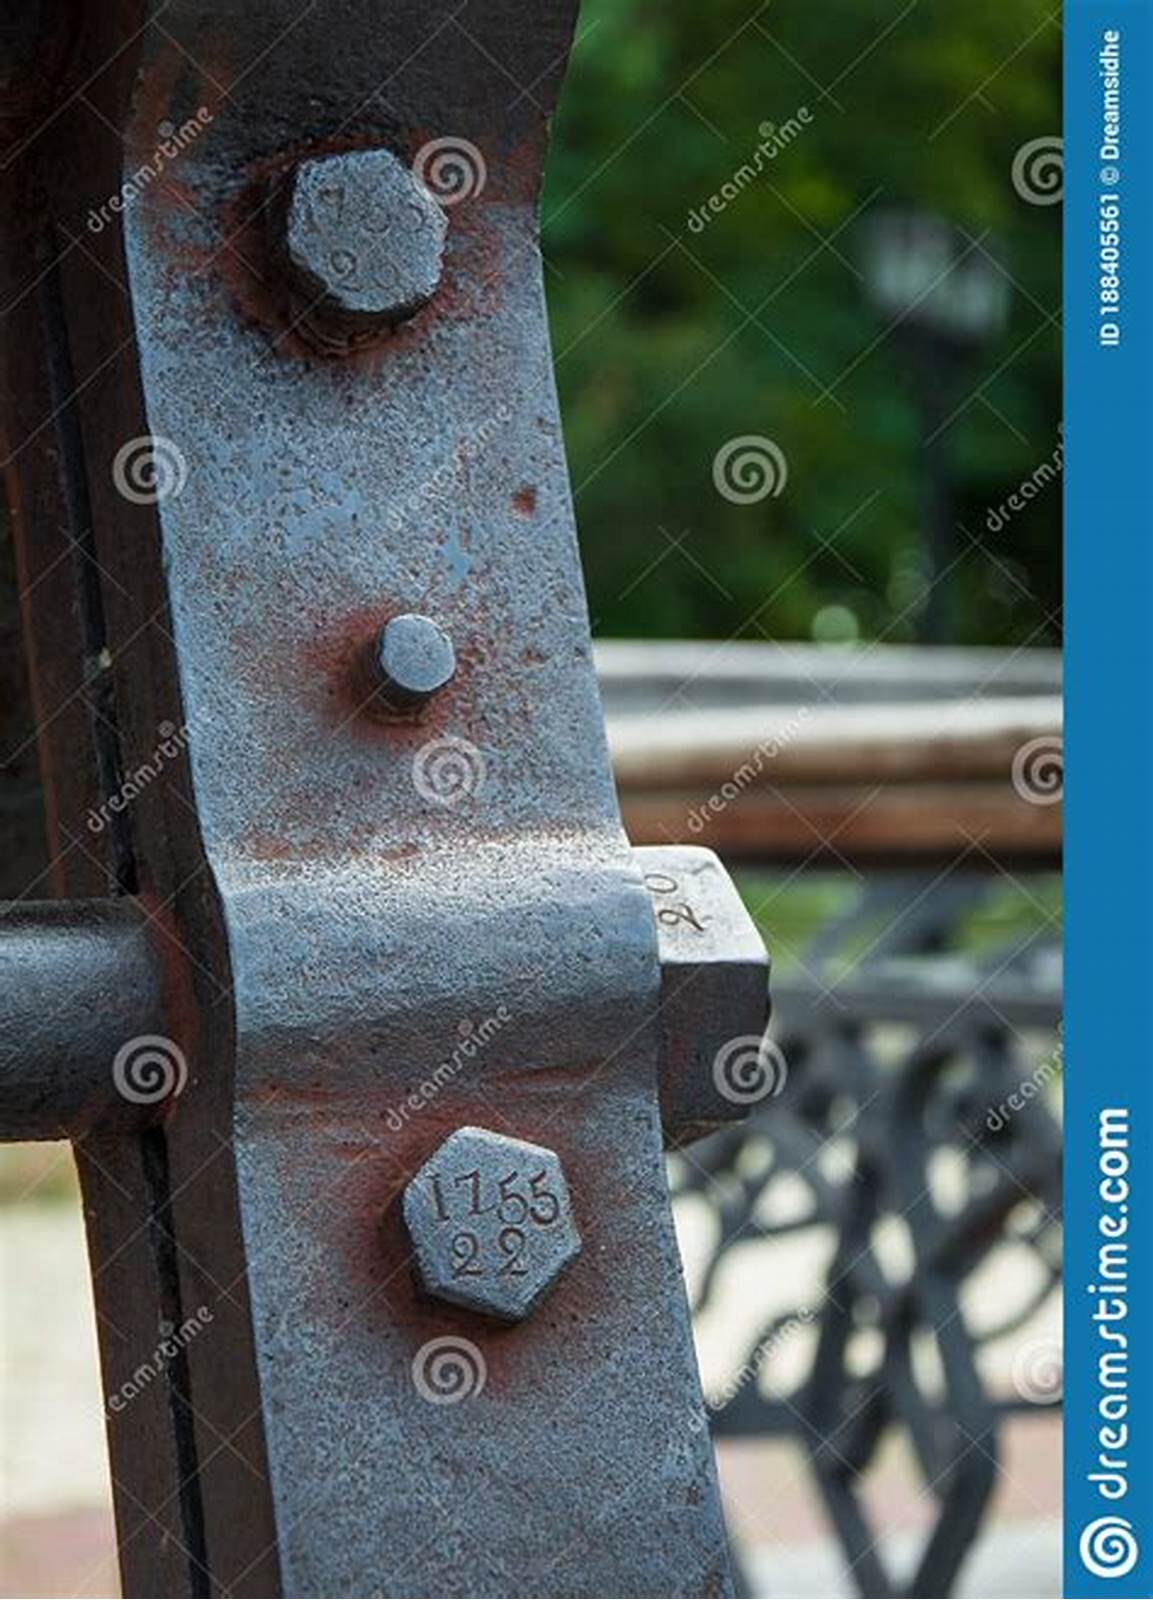bolt_a: (391, 1117, 581, 1335), (258, 140, 461, 340)
